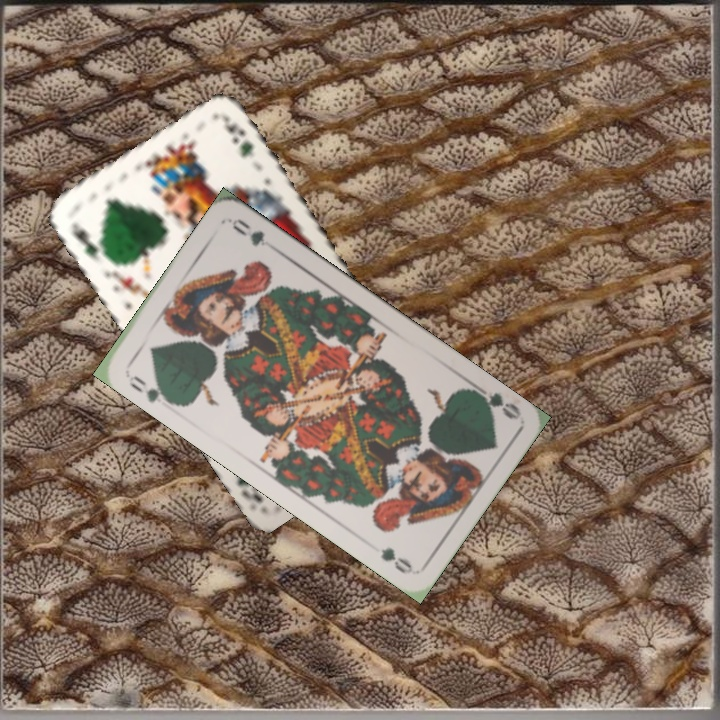GK: (67, 218, 103, 265)
GO: (466, 379, 523, 422), (122, 366, 174, 408)
